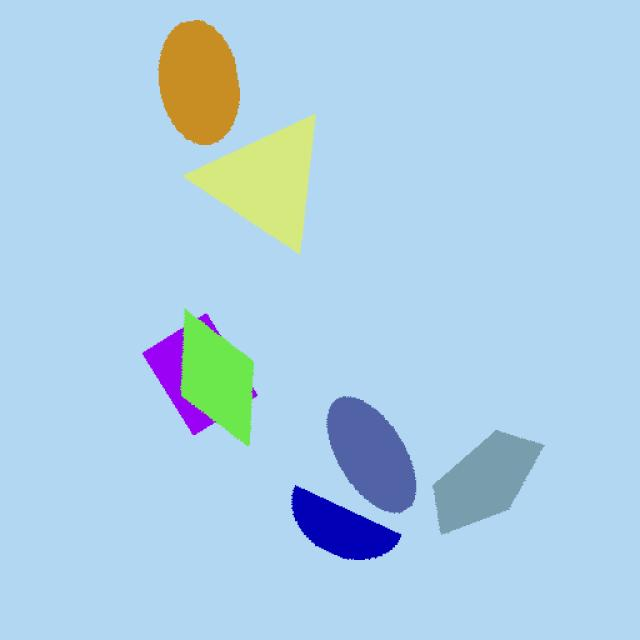Circle: (132, 15, 249, 152)
Kite: (174, 306, 268, 452)
Oval: (315, 383, 432, 518)
Pentagon: (422, 414, 556, 540)
Semicircle: (287, 476, 414, 590)
Triangle: (189, 104, 346, 249)
square: (120, 308, 261, 432)
